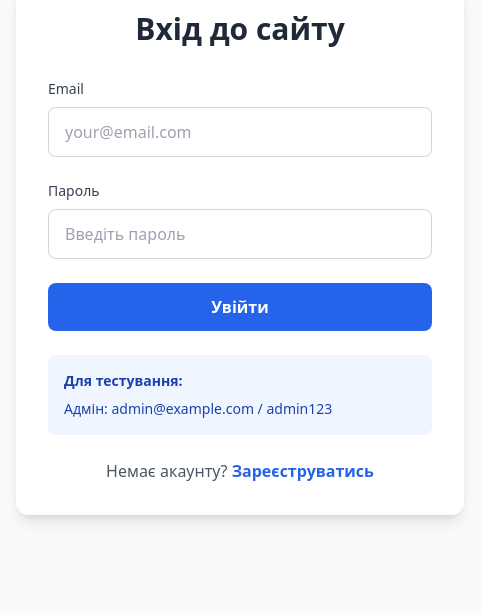
it: LoginPage › displays error message on login failure
Step 1. Type "wrong@example.com" into the field labelled "Email" → (240, 132), box [48, 107, 432, 157]
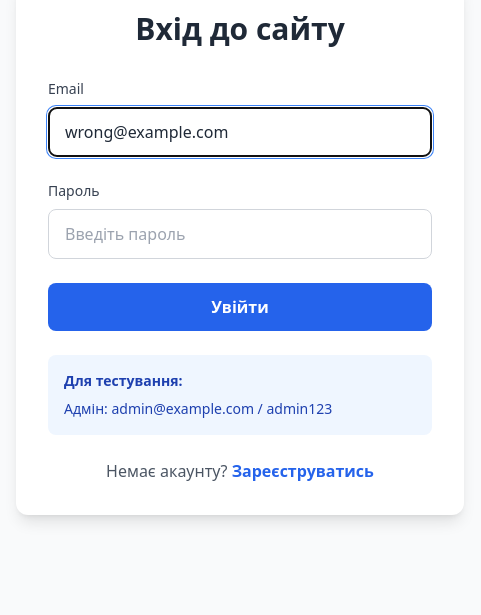
Step 2. Type "wrongpassword" into the password field labelled "Пароль" → (240, 234), box [48, 209, 432, 259]
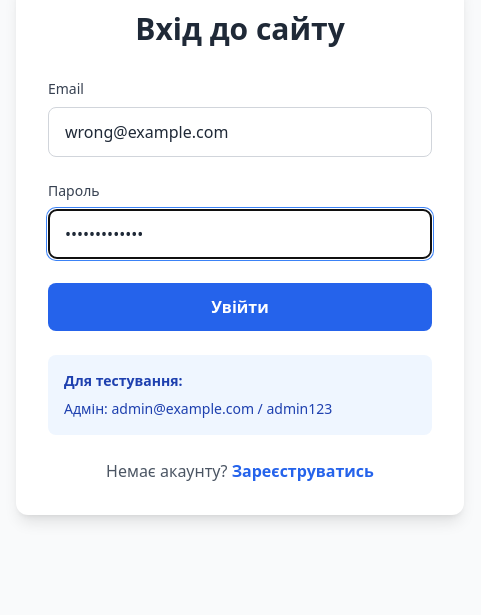
Step 3. Click the button "Увійти" → click(240, 307), box [48, 283, 432, 331]
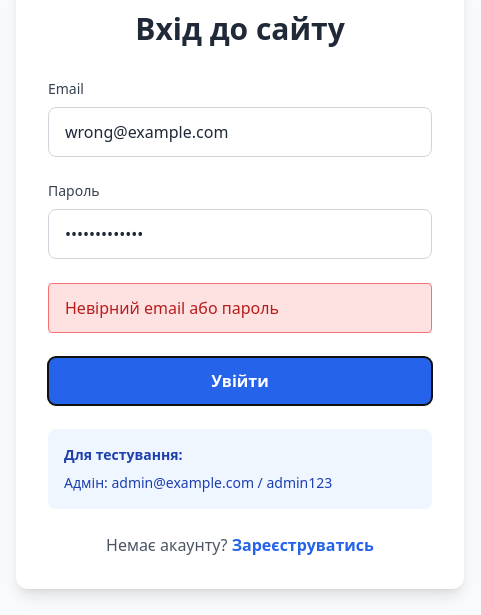
Result: the text "Невірний email або пароль" is shown at [48, 283, 432, 333]
